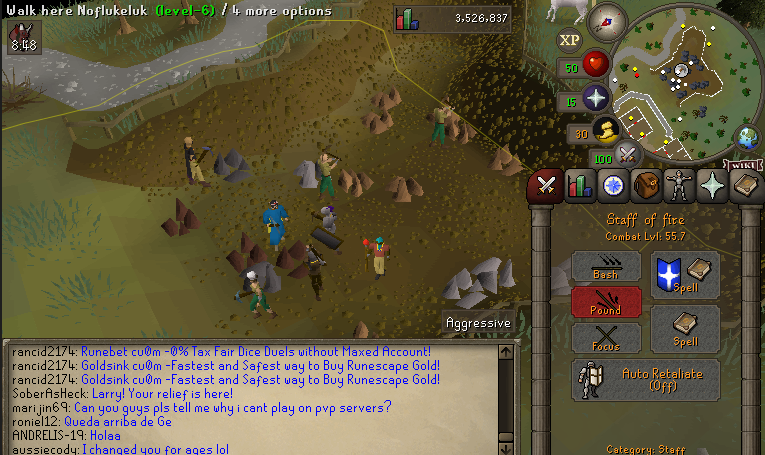depleted: (210, 140, 256, 191), (239, 256, 287, 298)
iron: (155, 193, 208, 244), (226, 230, 273, 279), (276, 235, 320, 285)
